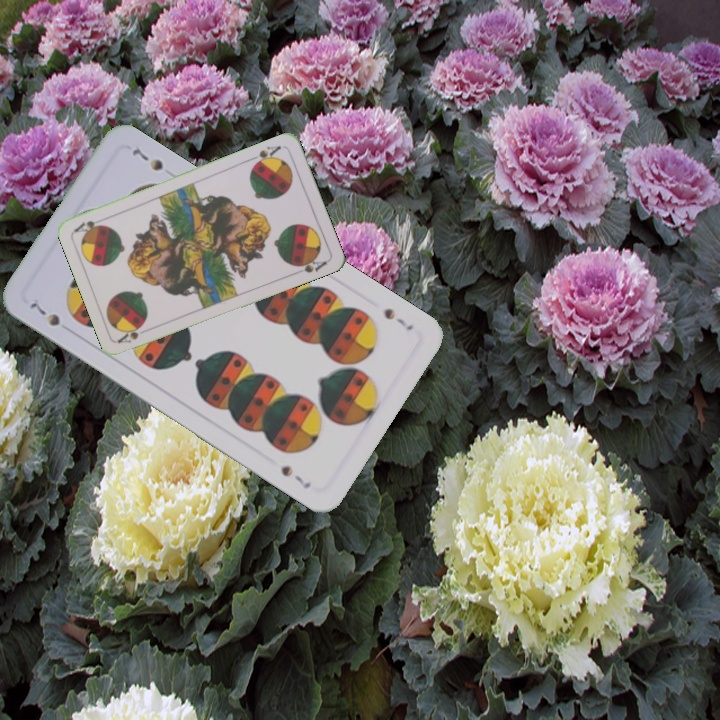S7: (26, 298, 63, 329), (379, 304, 416, 334)
SA: (246, 141, 284, 169), (114, 321, 154, 346)
